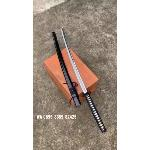Pedang: (60, 23, 108, 135)
